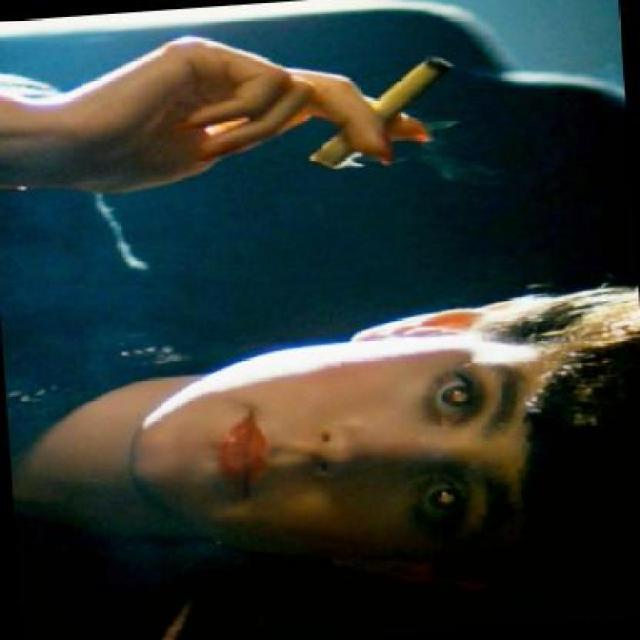rokok: (300, 51, 462, 173)
